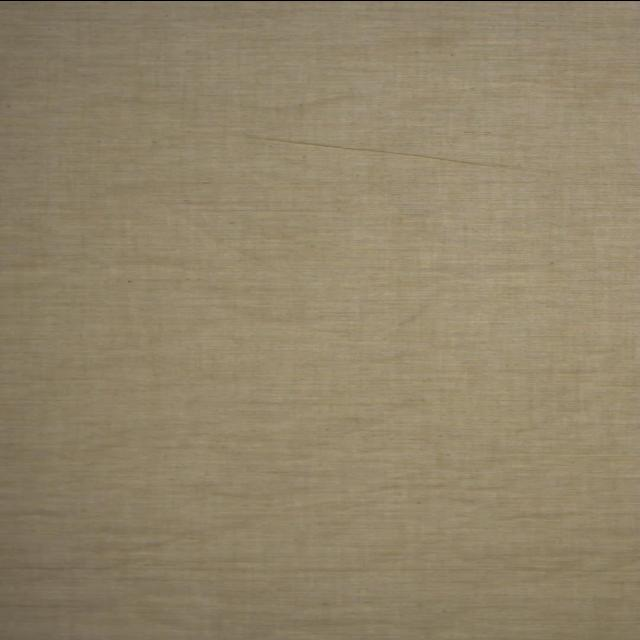dirty: (422, 36, 454, 54)
